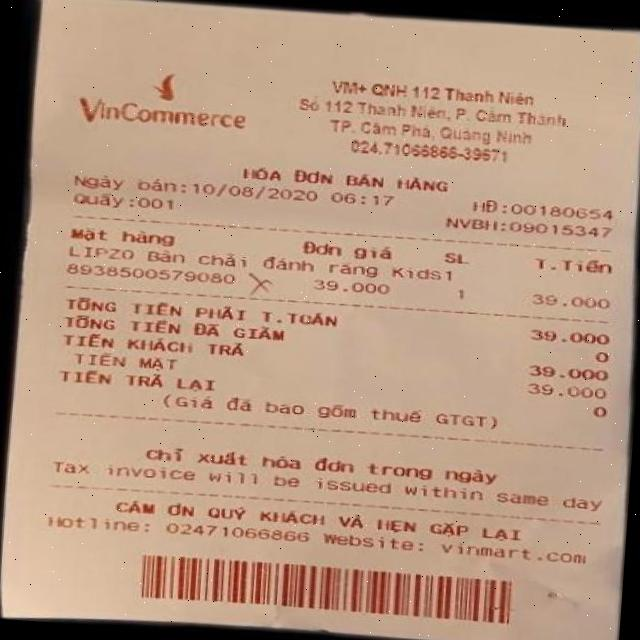Date: (190, 177, 325, 205)
Store_Name: (72, 63, 254, 140)
amount_number: (520, 321, 615, 352)
label_total: (66, 292, 343, 331)
